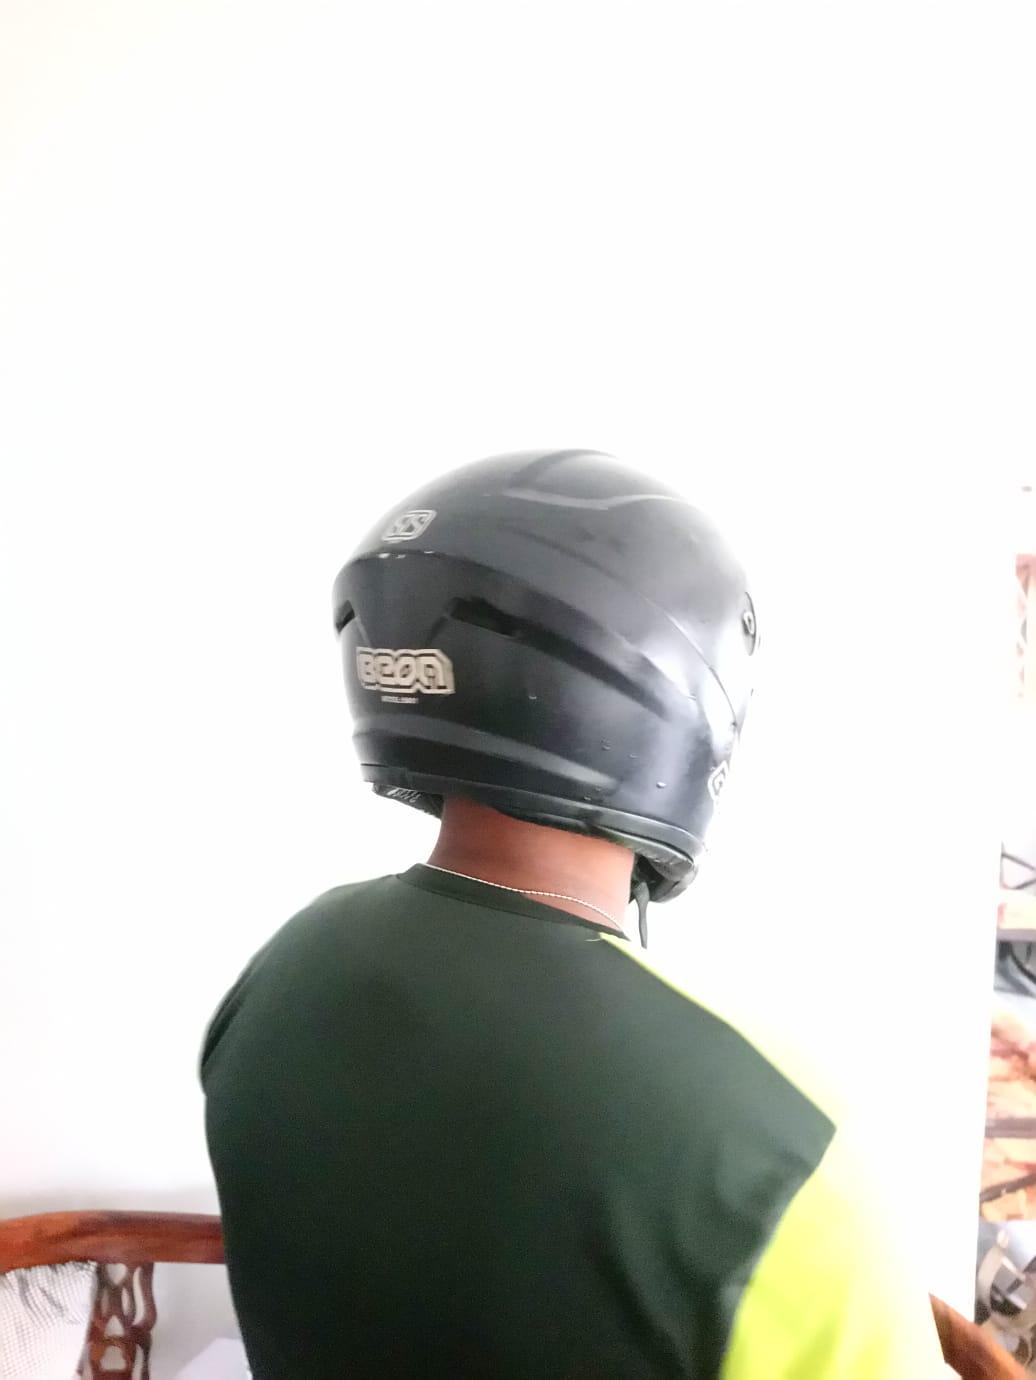helmet: (330, 442, 757, 900)
